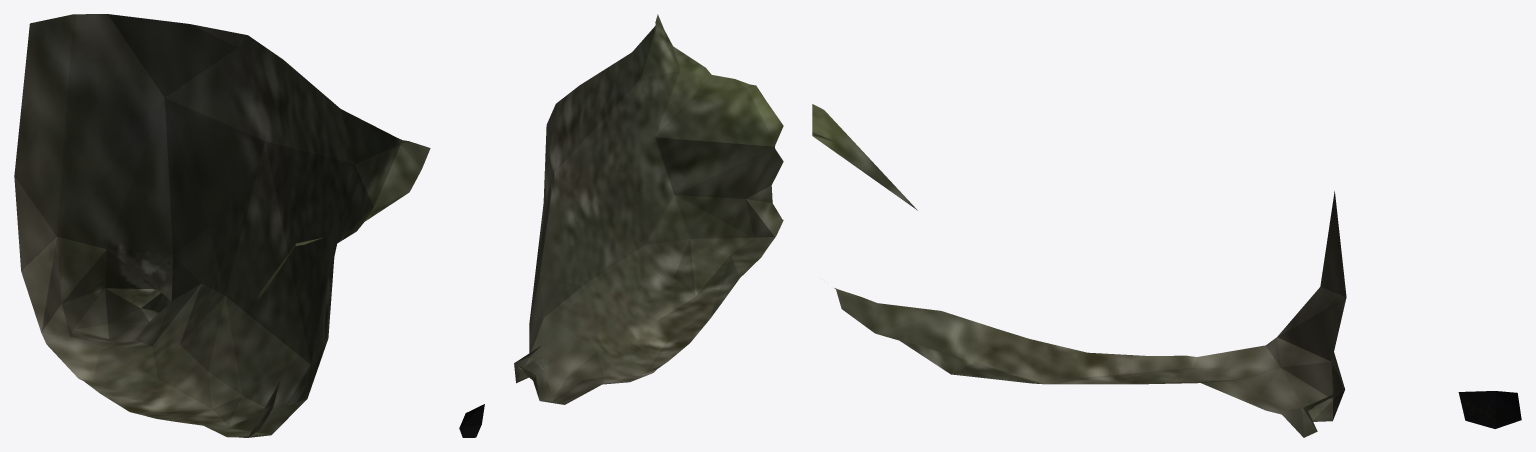
3 renders of one model, left to right at view 1: azimuth 30°, elevation 25°; view 2: azimuth 150°, elevation 25°; view 3: azimuth 270°, elevation 25°, orthographic. The views are drawn at different scales.
Bounding box in the file's own units: 0.6105 × 1.15 × 2.02.
1 material, 1 textured.
